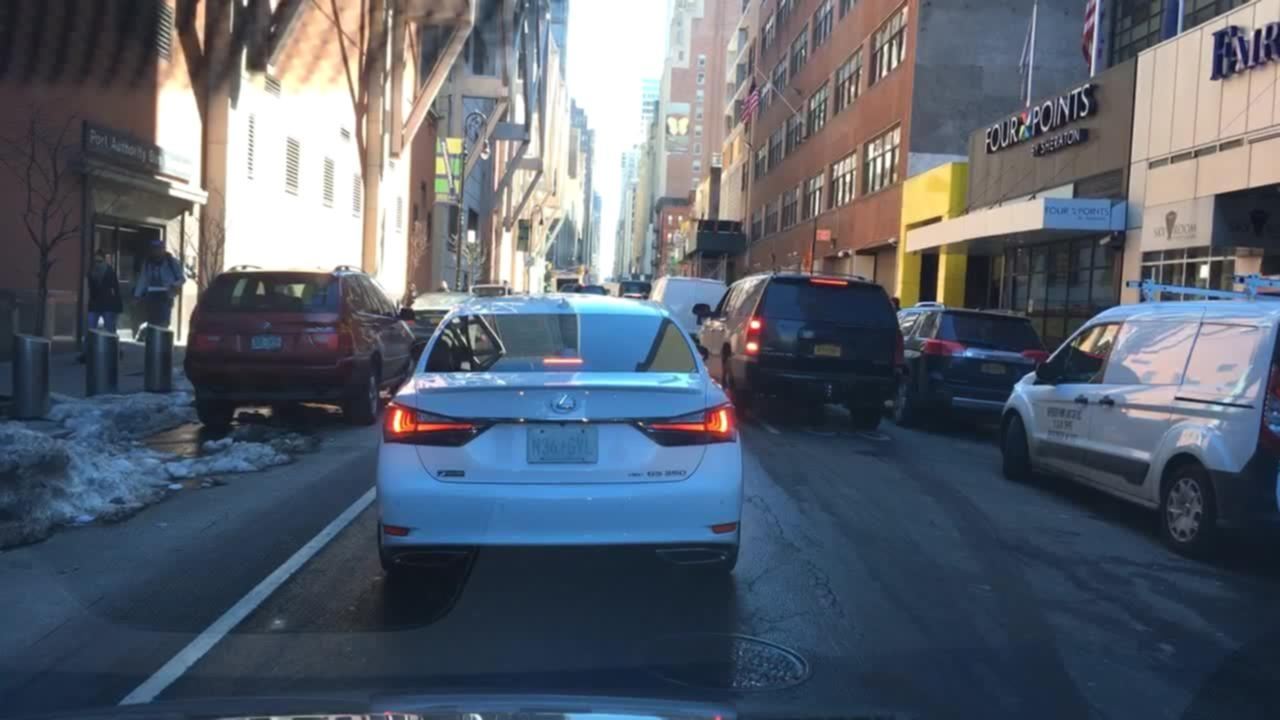lexus: (535, 381, 598, 427)
